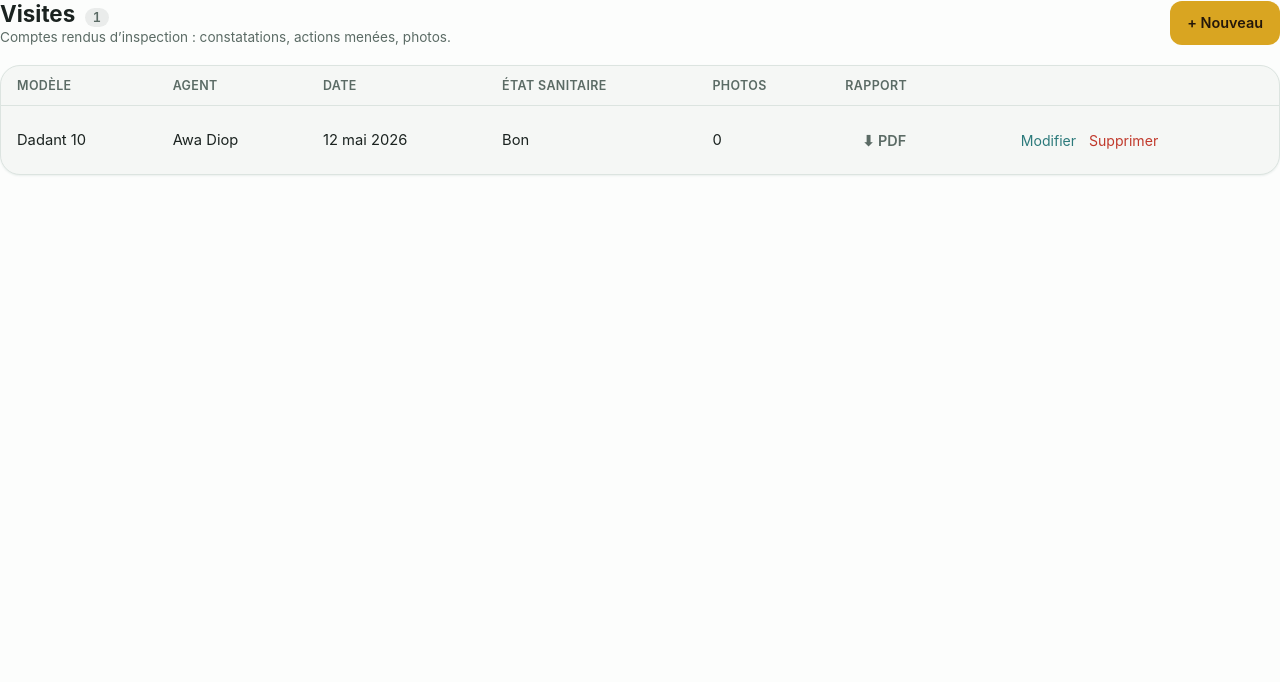
it: vue Visites › pré-remplit les champs du rapport à la modification
Expected: the text "Dadant 10" is shown, [1, 106, 157, 174]
Step 1. Click the button "Modifier" → x=1048, y=140, box [1014, 129, 1082, 152]
(page scrolled)
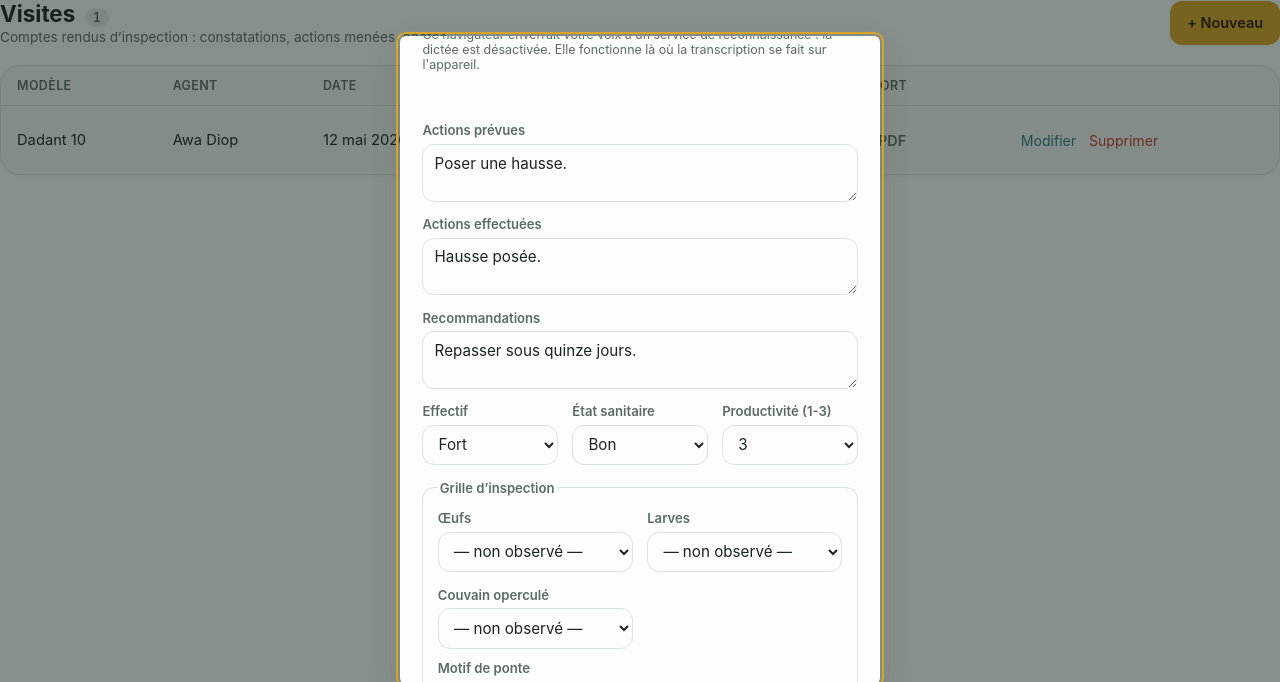
Result: the text box labelled "Actions prévues" holds "Poser une hausse." at [422, 144, 858, 202]
Result: the text box labelled "Recommandations" holds "Repasser sous quinze jours." at [422, 331, 858, 389]
